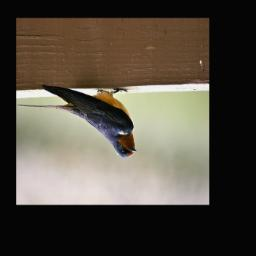Swallow: (17, 84, 138, 160)
